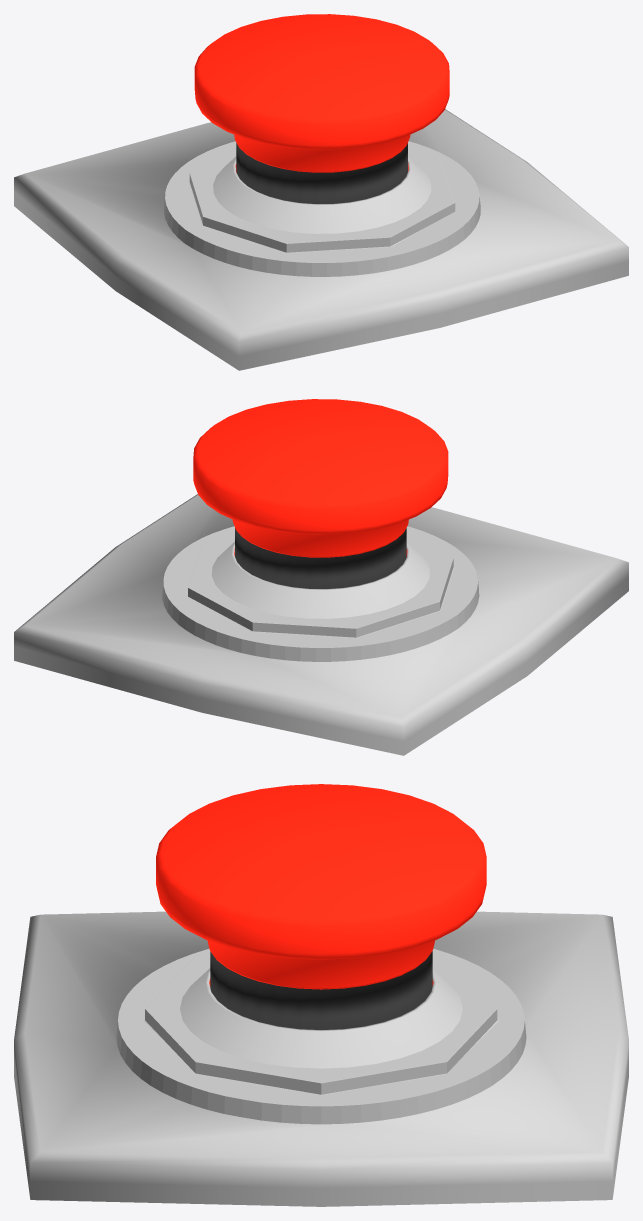
Rendered from BigRedButton.fbx.
3 views of the same model, one above another, from view 1: azimuth 30°, elevation 25°; view 2: azimuth 150°, elevation 25°; view 3: azimuth 270°, elevation 25° (orthographic). The views are drawn at different scales.
Visible parts, largest first — view 1: Cube; view 2: Cube; view 3: Cube.
Boxes of the visible parts, <box> form: Cube: <box>14,14,628,370</box>; Cube: <box>14,399,628,755</box>; Cube: <box>14,784,628,1206</box>.
Bounding box in the file's own units: 447 × 447 × 186.
